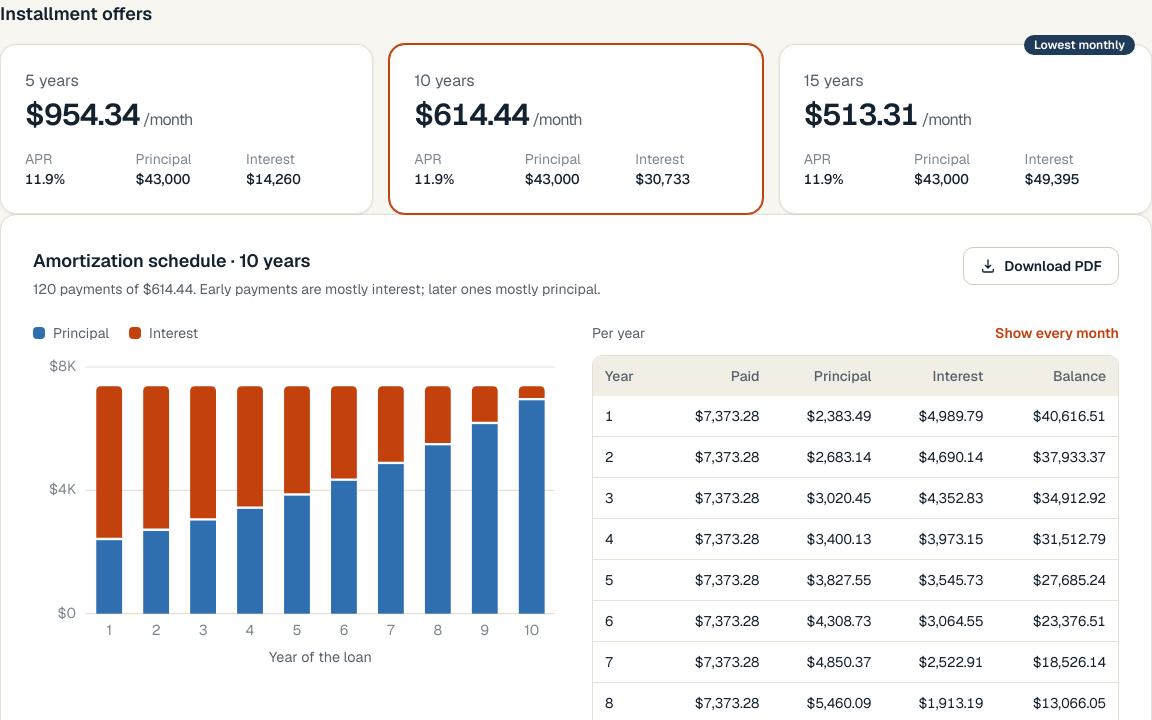
Test case: QuoteOffers › switches the schedule when another offer is chosen
Click the button that starts with "Lowest monthly" at x=965, y=129, box left=779, top=44, right=1151, bottom=214
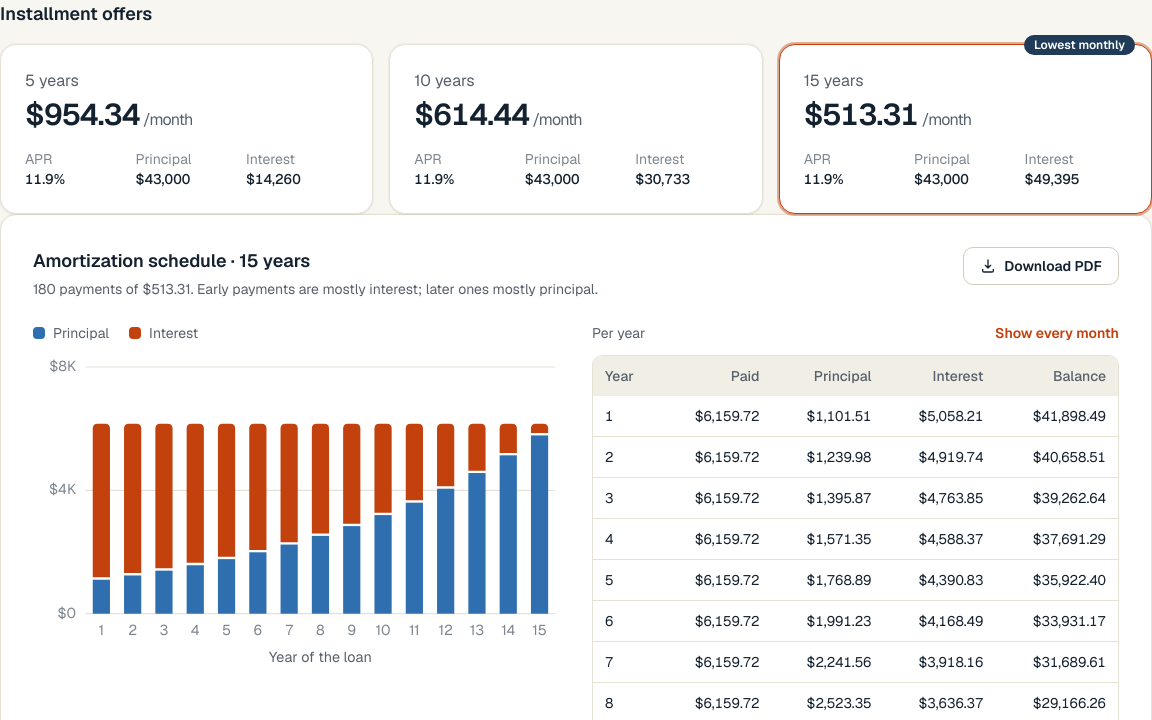
Expected: the heading "Amortization schedule · 15 years" is shown, left=33, top=249, right=310, bottom=272
